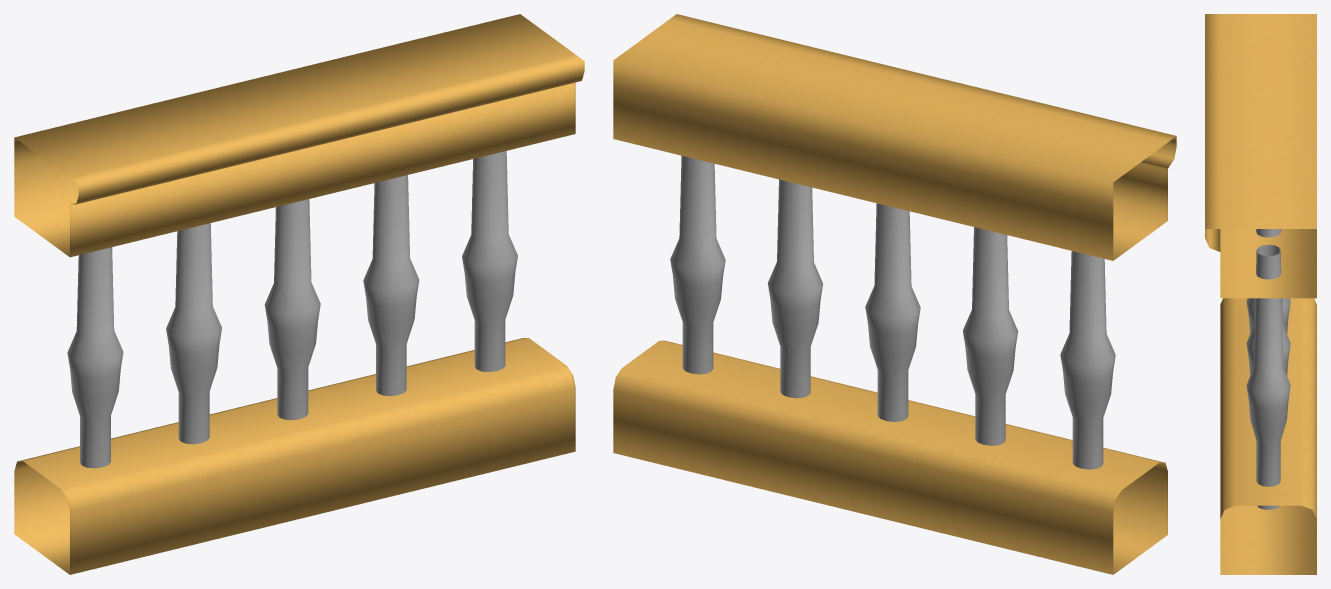
File: Parapeito.fbx
3 renders of one model, left to right at view 1: azimuth 30°, elevation 25°; view 2: azimuth 150°, elevation 25°; view 3: azimuth 270°, elevation 25°, orthographic. The views are drawn at different scales.
Visible parts, largest first — view 1: ParapeitoTopoBaseLow, ParapeitoColunaCentralLow; view 2: ParapeitoTopoBaseLow, ParapeitoColunaCentralLow; view 3: ParapeitoTopoBaseLow, ParapeitoColunaCentralLow.
Boxes of the visible parts, <box> form: ParapeitoTopoBaseLow: <box>14,14,584,574</box>; ParapeitoColunaCentralLow: <box>67,151,517,468</box>; ParapeitoTopoBaseLow: <box>613,14,1176,574</box>; ParapeitoColunaCentralLow: <box>670,155,1115,469</box>; ParapeitoTopoBaseLow: <box>1205,14,1316,574</box>; ParapeitoColunaCentralLow: <box>1246,229,1290,509</box>.
Size of the model in its own units: 100 by 75 by 22.
